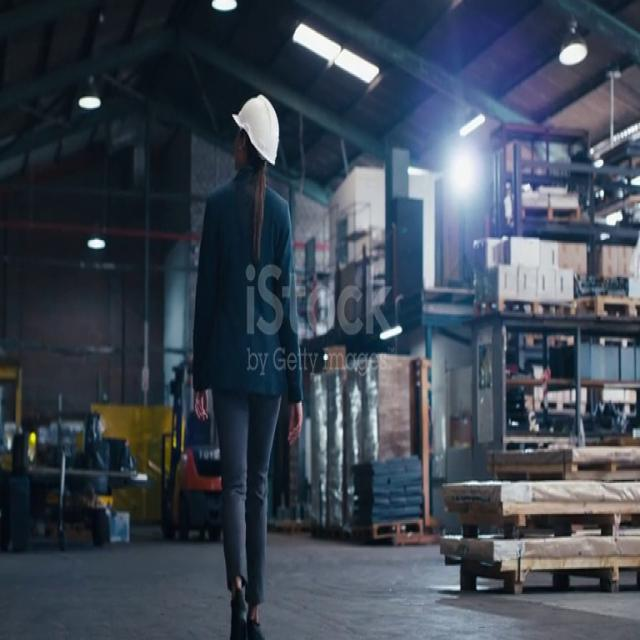capacete: (225, 80, 292, 176)
